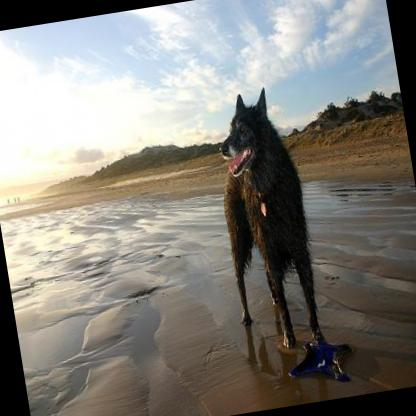groenendael: (201, 78, 356, 392)
